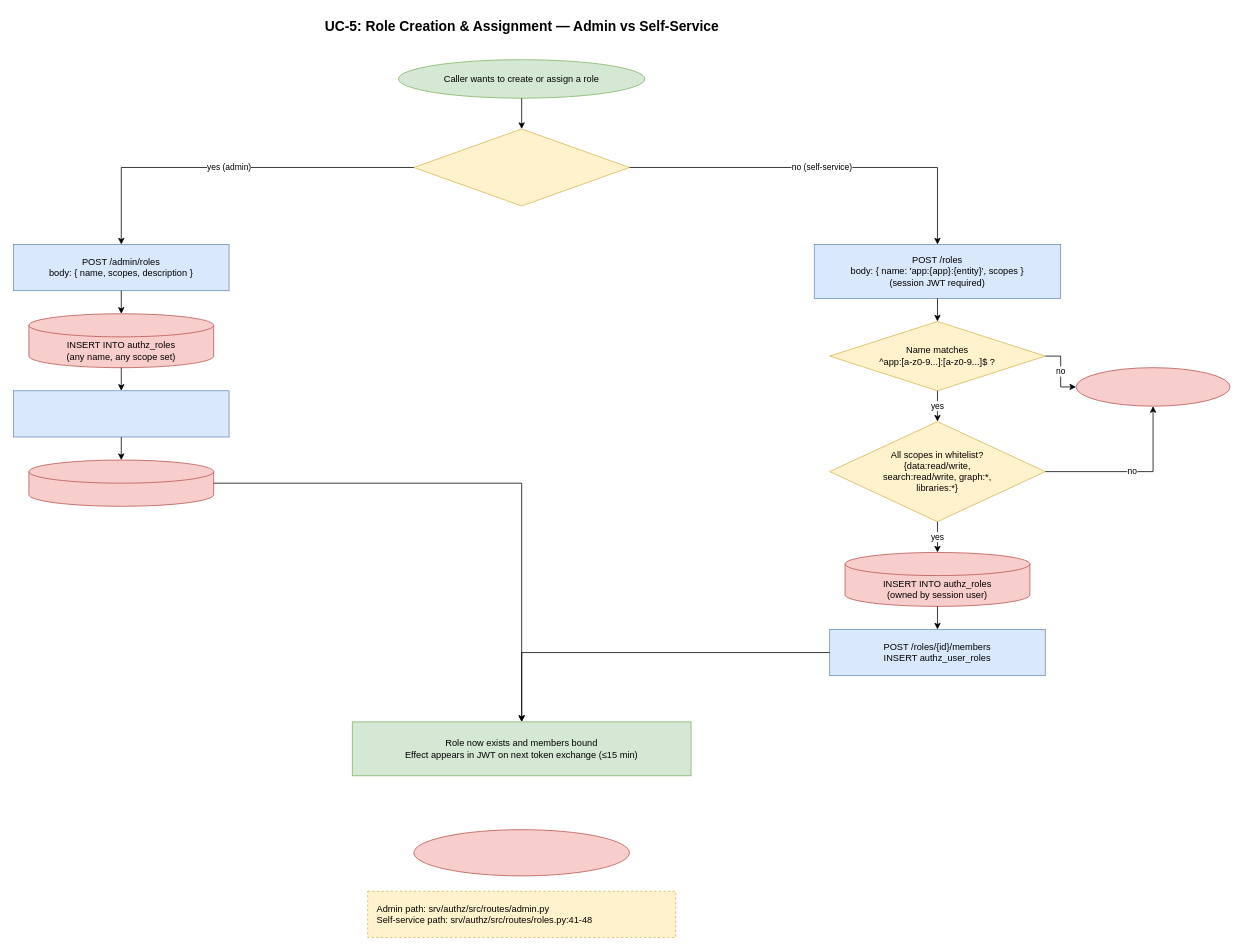
This 1244x951 diagram has some shape labels left out. The centre of each missing label's shape, as x and y in pixels:
400 Bad Request: point (1152, 386)
403 Forbidden (not admin): point (521, 852)
Caller has authz.roles.write scope?: point (521, 167)
INSERT INTO authz_user_roles: point (121, 482)
POST /admin/user-roles body: { user_id, role_id }: point (121, 413)
